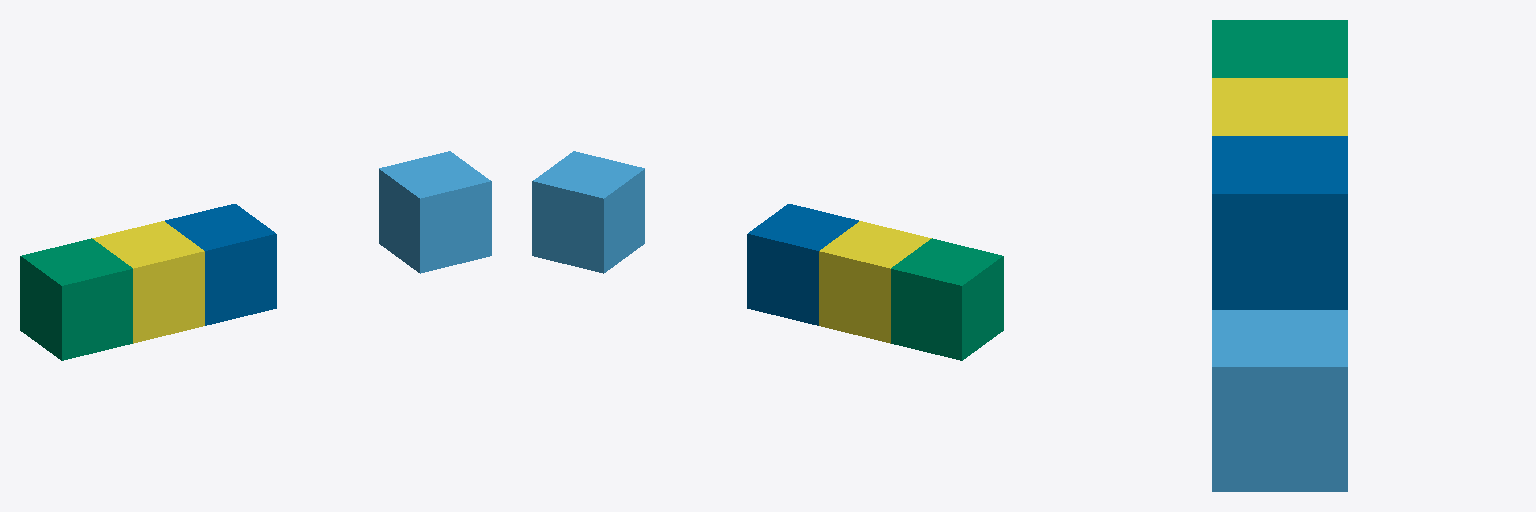
The robot description file, URDF, robot "pppbot":
<?xml version="1.0" ?>
<robot name="pppbot">
  <link name="base_link"/>
  <link name="obstacle1">
    <inertial>
      <origin rpy="0 0 0" xyz=".05 .05 .05"/>
      <mass value="1.0"/>
      <inertia ixx="1" ixy="0" ixz="0" iyy="1" iyz="0" izz="1"/>
    </inertial>
    <visual>
      <origin rpy="0 0 0" xyz=".05 .05 .05"/>
      <geometry>
        <box size=".1 .1 .1"/>
      </geometry>
    </visual>
    <collision>
      <origin rpy="0 0 0" xyz=".05 .05 .05"/>
      <geometry>
        <box size=".1 .1 .3"/>
      </geometry>
    </collision>
  </link>
  <link name="link1">
    <inertial>
      <origin rpy="0 0 0" xyz=".05 .05 .05"/>
      <mass value="1.0"/>
      <inertia ixx="1" ixy="0" ixz="0" iyy="1" iyz="0" izz="1"/>
    </inertial>
    <visual>
      <origin rpy="0 0 0" xyz=".05 .05 .05"/>
      <geometry>
        <box size=".1 .1 .1"/>
      </geometry>
    </visual>
    <collision>
      <origin rpy="0 0 0" xyz=".05 .05 .05"/>
      <geometry>
        <box size=".1 .1 .1"/>
      </geometry>
    </collision>
  </link>
  <link name="link2">
    <inertial>
      <origin rpy="0 0 0" xyz=".05 .05 .05"/>
      <mass value="1.0"/>
      <inertia ixx="1" ixy="0" ixz="0" iyy="1" iyz="0" izz="1"/>
    </inertial>
    <visual>
      <origin rpy="0 0 0" xyz=".05 .05 .05"/>
      <geometry>
        <box size=".1 .1 .1"/>
      </geometry>
    </visual>
    <collision>
      <origin rpy="0 0 0" xyz=".05 .05 .05"/>
      <geometry>
        <box size=".1 .1 .1"/>
      </geometry>
    </collision>
  </link>
  <link name="link3">
    <inertial>
      <origin rpy="0 0 0" xyz=".05 .05 .05"/>
      <mass value="1.0"/>
      <inertia ixx="1" ixy="0" ixz="0" iyy="1" iyz="0" izz="1"/>
    </inertial>
    <visual>
      <origin rpy="0 0 0" xyz=".05 .05 .05"/>
      <geometry>
        <box size=".1 .1 .1"/>
      </geometry>
    </visual>
    <collision>
      <origin rpy="0 0 0" xyz=".05 .05 .05"/>
      <geometry>
        <box size=".1 .1 .1"/>
      </geometry>
    </collision>
  </link>

  <joint name="base_T_obstacle" type="fixed">
    <parent link="base_link"/>
    <child link="obstacle1"/>
    <origin xyz="0.5 0 0"/>
  </joint>
  <joint name="p1" type="prismatic">
    <parent link="base_link"/>
    <child link="link1"/>
    <origin xyz="0 0 0"/>
    <axis xyz="0 0 1"/>
    <limit lower="0" upper=".5" effort="10" velocity="1.0"/>
  </joint>
  <joint name="p2" type="prismatic">
    <parent link="link1"/>
    <child link="link2"/>
    <origin xyz=".1 0 0"/>
    <axis xyz="1 0 0"/>
    <limit lower="-.01" upper=".51" effort="10" velocity="1.0"/>
  </joint>
  <joint name="p3" type="prismatic">
    <parent link="link2"/>
    <child link="link3"/>
    <origin xyz=".1 0 0"/>
    <axis xyz="0 0 1"/>
    <limit lower="-.5" upper="0" effort="10" velocity="1.0"/>
  </joint>
</robot>

--- Facts derived from the render (not from the file) ---
Views: 3 orthographic renders of the robot side by side, from view 1: azimuth 30°, elevation 25°; view 2: azimuth 150°, elevation 25°; view 3: azimuth 270°, elevation 25°.
Robot: pppbot — 5 links, 4 joints (3 prismatic, 1 fixed); root link base_link; default pose: every joint at zero.
Links seen in each view (by area): view 1: obstacle1, link1, link3, link2; view 2: obstacle1, link1, link3, link2; view 3: obstacle1, link3, link1, link2.
Boxes of the visible links, bbox=[...] form: obstacle1: bbox=[379, 151, 491, 273]; link1: bbox=[20, 238, 132, 360]; link3: bbox=[165, 204, 276, 325]; link2: bbox=[92, 221, 204, 343]; obstacle1: bbox=[532, 151, 644, 273]; link1: bbox=[891, 238, 1003, 360]; link3: bbox=[747, 204, 858, 325]; link2: bbox=[819, 221, 931, 343]; obstacle1: bbox=[1212, 310, 1347, 491]; link3: bbox=[1212, 136, 1347, 309]; link1: bbox=[1212, 20, 1347, 77]; link2: bbox=[1212, 78, 1347, 135].
Bounding box of the posed robot: 0.6 × 0.1 × 0.1 m (x, y, z).
Geometry: primitives only (box / cylinder / sphere), no mesh files.